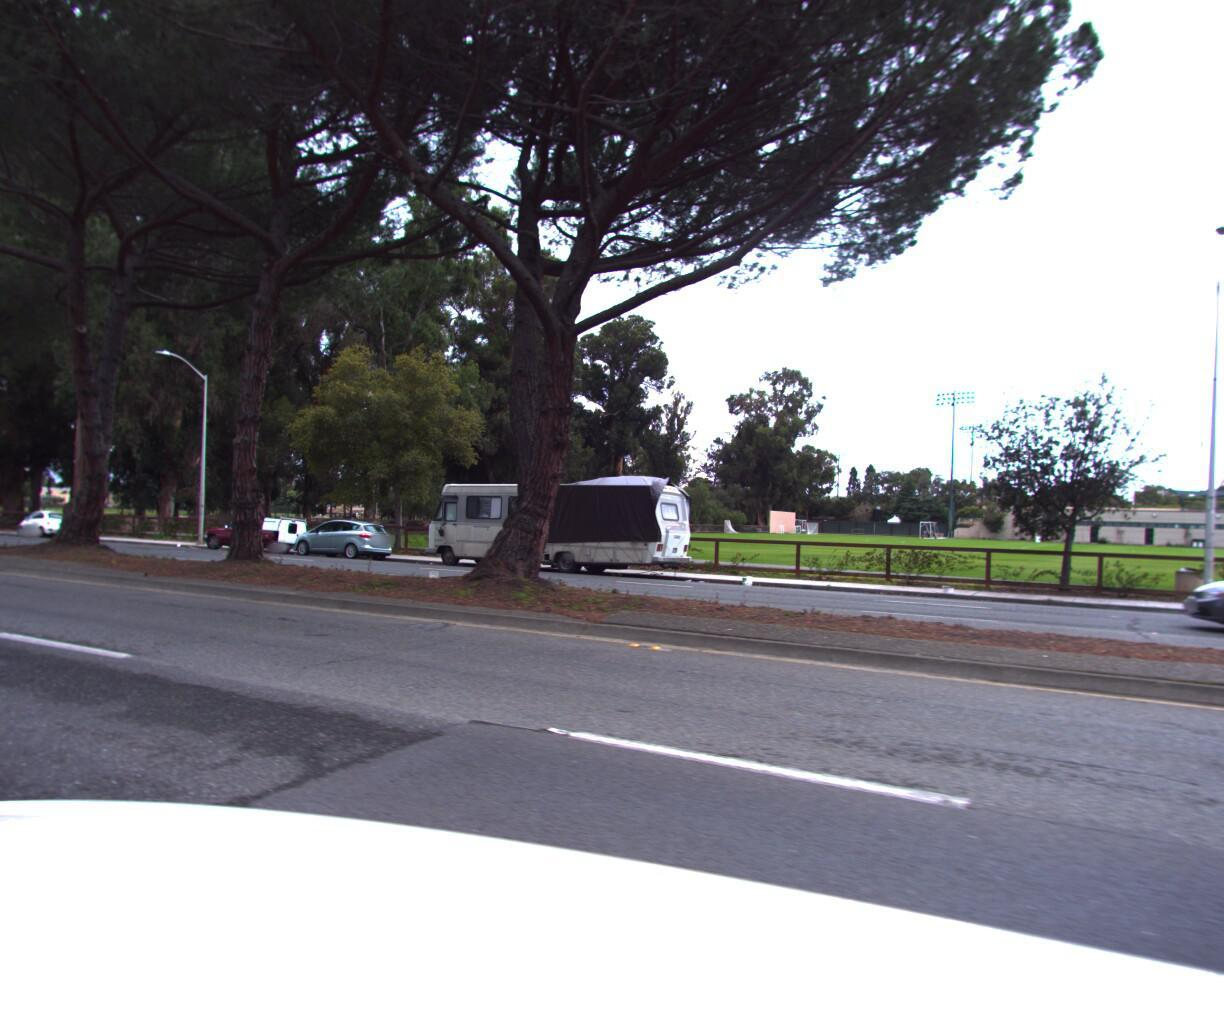car: (284, 517, 397, 564), (196, 513, 309, 558), (1194, 545, 1224, 650), (8, 509, 78, 543)
other_vehicle: (410, 473, 700, 581)
